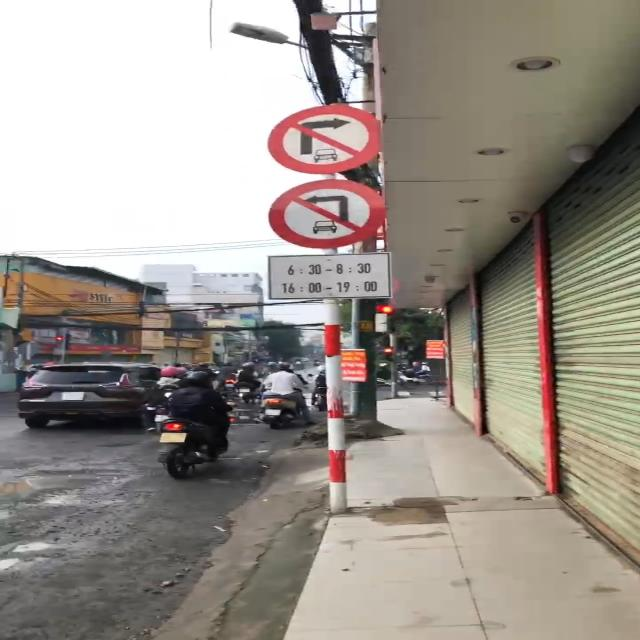Bien bao cam xe o to re phai: (265, 102, 398, 180)
Bien bao cam xe o to re trai: (265, 180, 397, 256)
